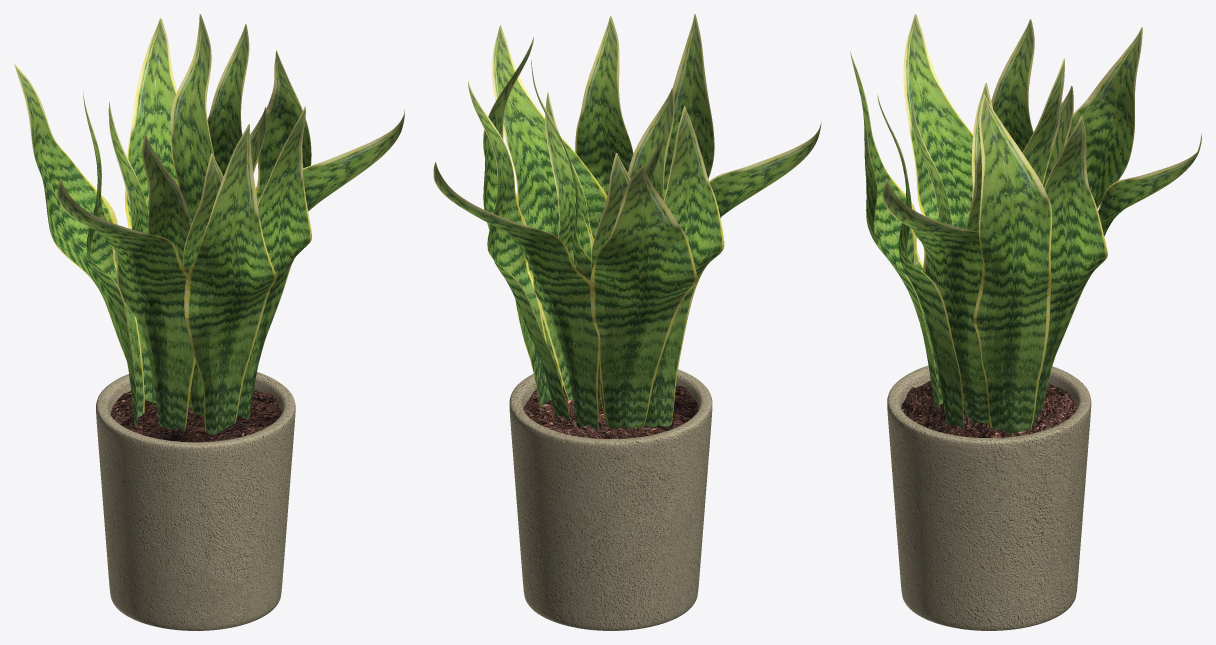
File: snake.glb
The picture shows the model from 3 angles, left to right: view 1: azimuth 30°, elevation 25°; view 2: azimuth 150°, elevation 25°; view 3: azimuth 270°, elevation 25°; orthographic projection. The views are drawn at different scales.
Parts seen in each view (by area): view 1: snake_plant; view 2: snake_plant; view 3: snake_plant.
Part boxes in pixels (x1=…): snake_plant: x1=14, y1=14, x2=404, y2=630; snake_plant: x1=433, y1=14, x2=821, y2=630; snake_plant: x1=850, y1=14, x2=1201, y2=630.
Size of the model in its own units: 0.9092 by 1.43 by 0.8168.
Materials: 3 (3 with a texture image).
